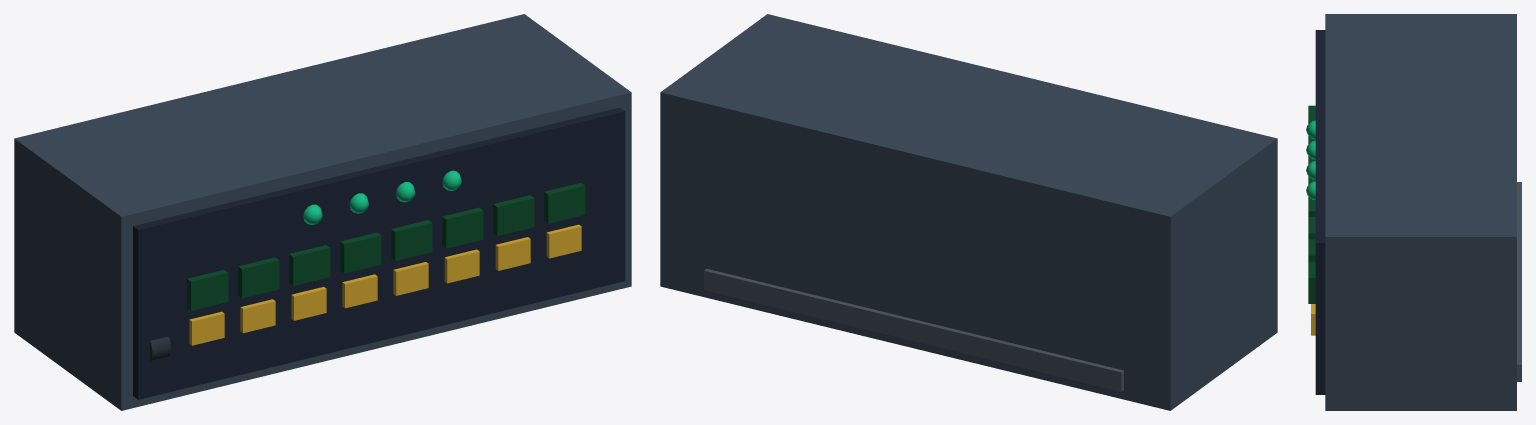
Rendered from network-switch.glb.
The picture shows the model from 3 angles, left to right: view 1: azimuth 30°, elevation 25°; view 2: azimuth 150°, elevation 25°; view 3: azimuth 270°, elevation 25°; orthographic projection. The views are drawn at different scales.
Size of the model in its own units: 1.1 by 0.4 by 0.45.
